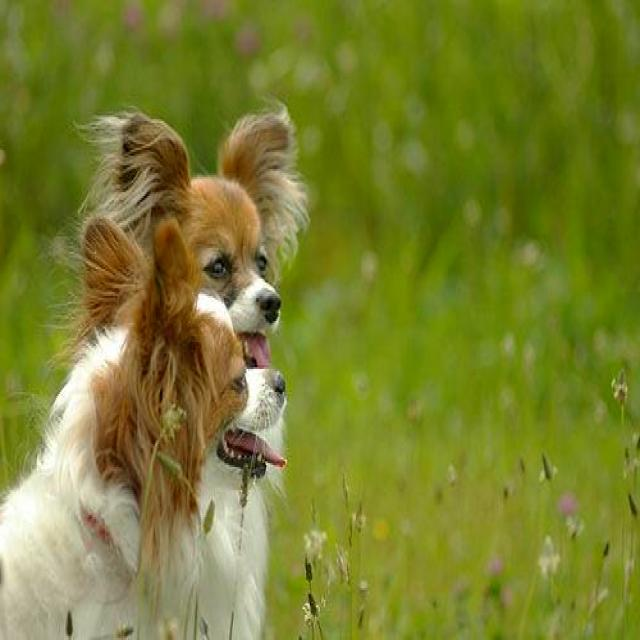papillon: (1, 213, 287, 638), (90, 106, 308, 638)
